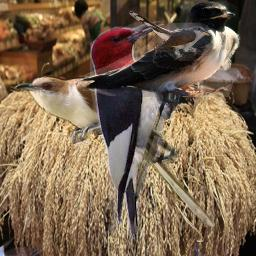Cuckoo: (14, 74, 219, 231), (128, 7, 212, 61)
Swallow: (78, 1, 241, 97)
Woodpecker: (90, 21, 184, 245)
